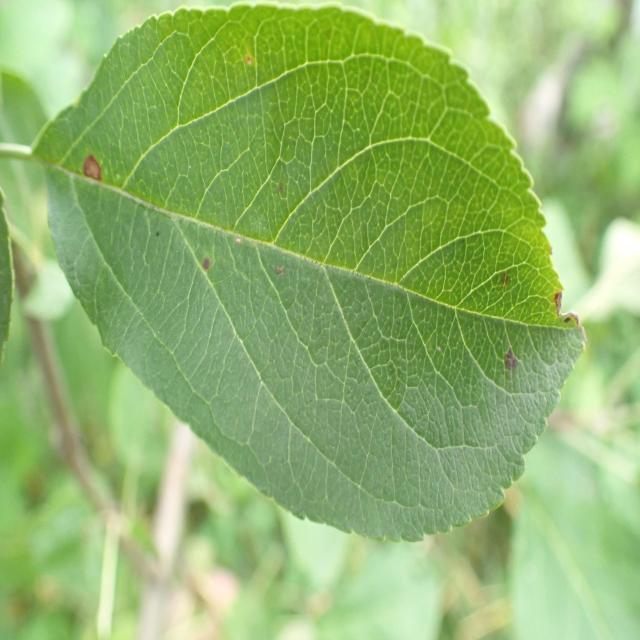Black Rot: (537, 276, 581, 342), (78, 137, 118, 208), (479, 334, 530, 386), (194, 253, 220, 282)
